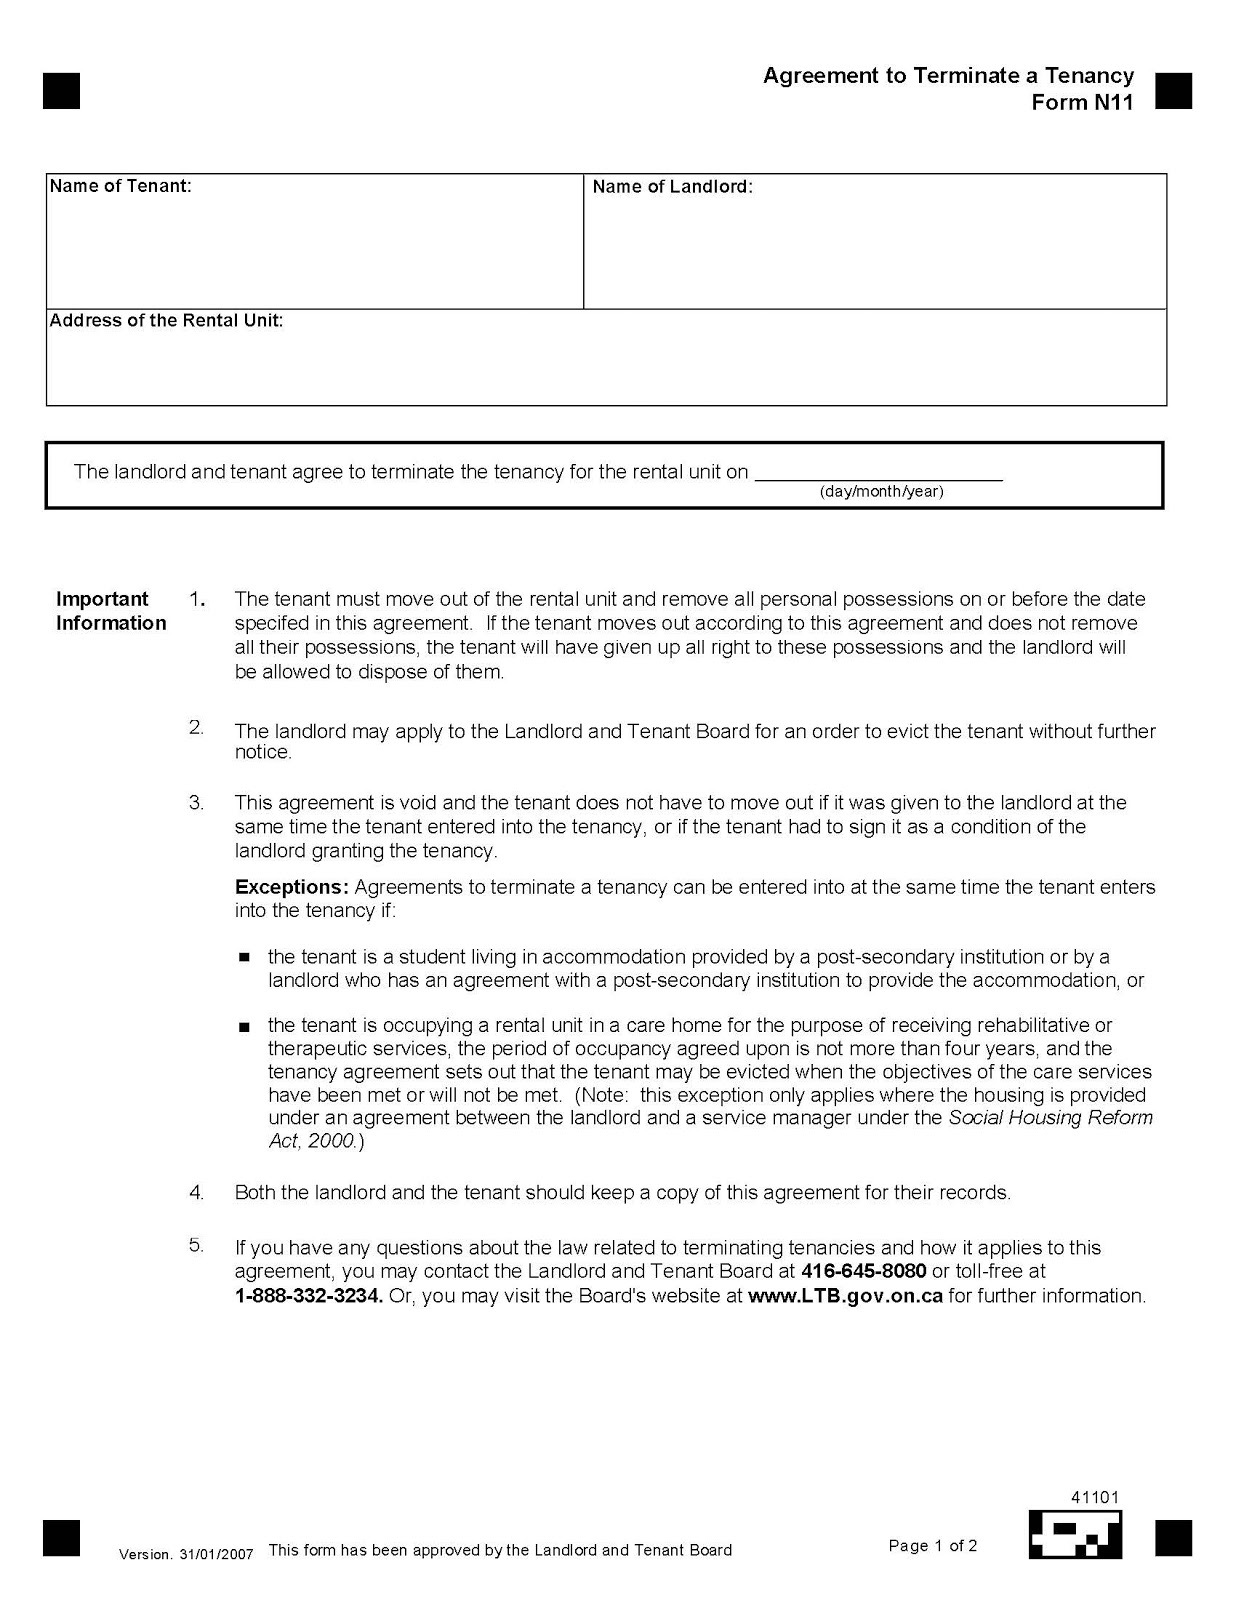textbox: (44, 302, 1178, 423), (578, 160, 1176, 327), (42, 165, 595, 315)
textline: (756, 446, 1009, 487)
